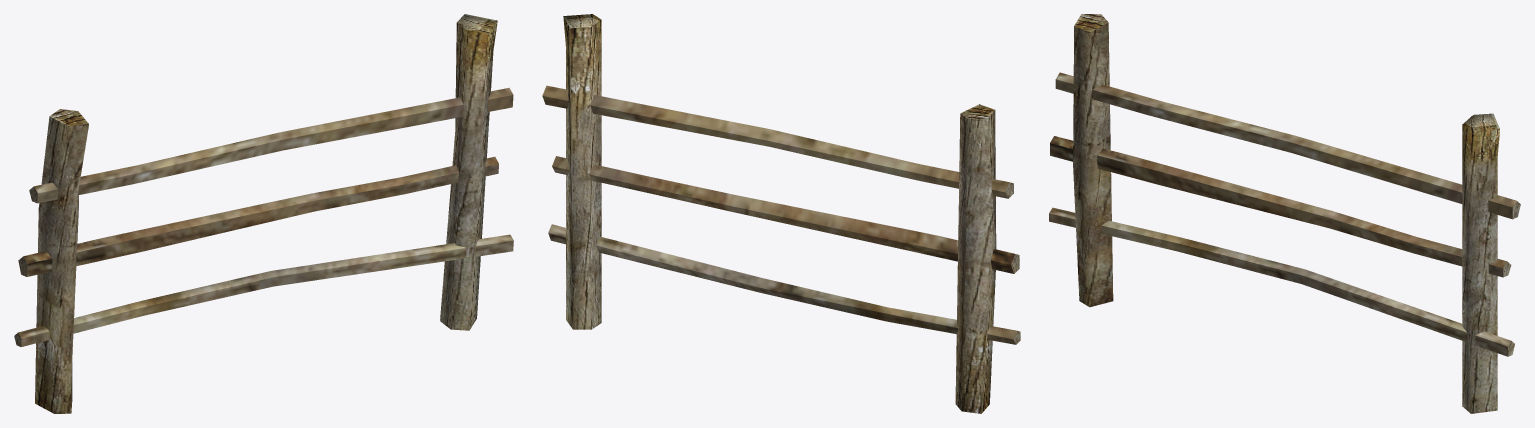
The model's file is FenceA.FBX.
3 renders of one model, left to right at view 1: azimuth 30°, elevation 25°; view 2: azimuth 150°, elevation 25°; view 3: azimuth 330°, elevation 25°, orthographic. The views are drawn at different scales.
Visible parts, largest first — view 1: FenceA; view 2: FenceA; view 3: FenceA.
Boxes of the visible parts, <box> form: FenceA: <box>14,14,513,413</box>; FenceA: <box>542,14,1020,413</box>; FenceA: <box>1049,14,1520,413</box>.
Size of the model in its own units: 7.39 by 4.48 by 0.7704.
1 material, 1 textured.
